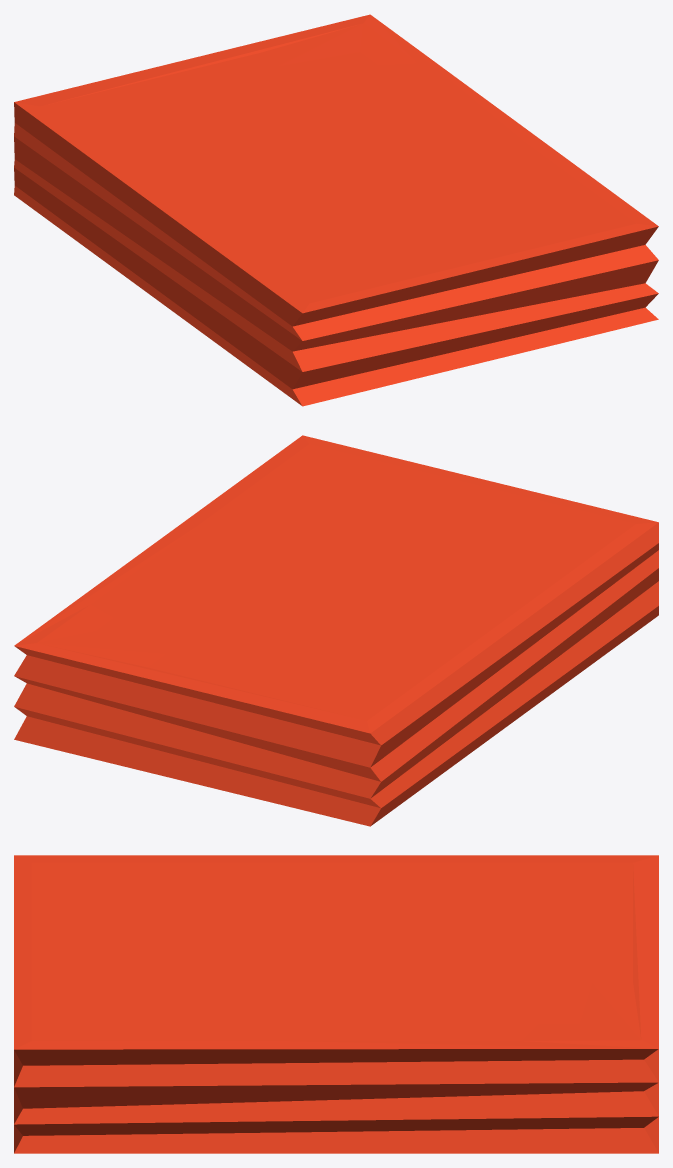
Rendered from SM_Newspaper_C_Sorted_City.fbx.
The picture shows the model from 3 angles, top to bottom: view 1: azimuth 30°, elevation 25°; view 2: azimuth 150°, elevation 25°; view 3: azimuth 270°, elevation 25°; orthographic projection. The views are drawn at different scales.
Parts seen in each view (by area): view 1: SM_Newspaper_C_Sorted_City; view 2: SM_Newspaper_C_Sorted_City; view 3: SM_Newspaper_C_Sorted_City.
Boxes of the visible parts, box(x1,y1,x2,y2) form: SM_Newspaper_C_Sorted_City: box(14, 14, 658, 406); SM_Newspaper_C_Sorted_City: box(14, 435, 658, 826); SM_Newspaper_C_Sorted_City: box(14, 855, 658, 1153).
Bounding box in the file's own units: 0.2796 × 0.0701 × 0.3867.
